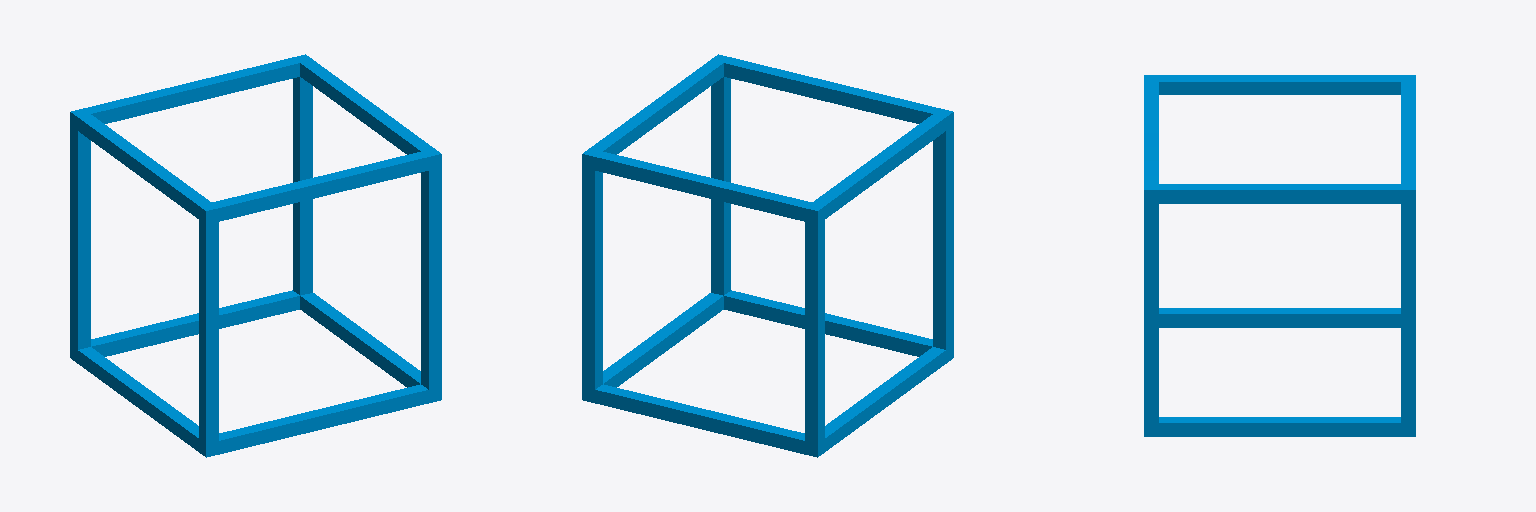
3 renders of one model, left to right at view 1: azimuth 30°, elevation 25°; view 2: azimuth 150°, elevation 25°; view 3: azimuth 270°, elevation 25°, orthographic.
Parts seen in each view (by area): view 1: Cube; view 2: Cube; view 3: Cube.
Boxes of the visible parts, box(x1,y1,x2,y2) form: Cube: box(70, 54, 441, 457); Cube: box(582, 54, 953, 457); Cube: box(1144, 75, 1415, 436).
Size of the model in its own units: 1.14 by 1.14 by 1.14.
Materials: 1 (1 with a texture image).